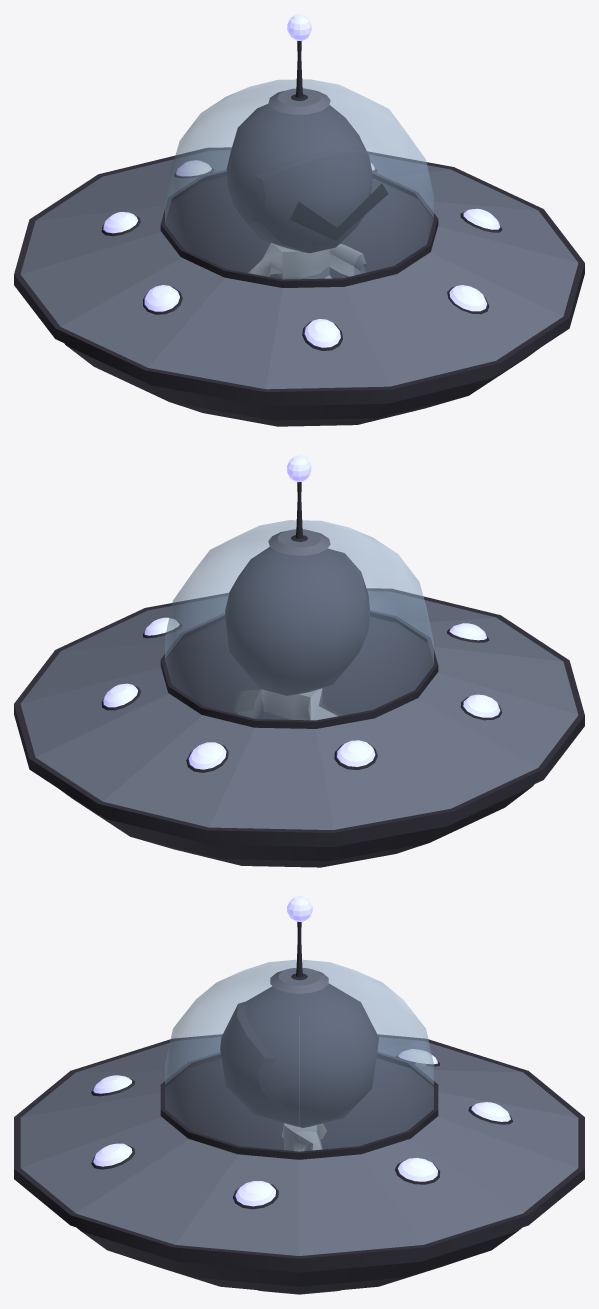
The model's file is EnemyTwo.fbx.
The picture shows the model from 3 angles, top to bottom: view 1: azimuth 30°, elevation 25°; view 2: azimuth 150°, elevation 25°; view 3: azimuth 270°, elevation 25°; orthographic projection. The views are drawn at different scales.
Visible parts, largest first — view 1: pSphere12, astro8; view 2: pSphere12, astro8; view 3: pSphere12, astro8.
Boxes of the visible parts, left/top/right/bottom form: pSphere12: left=14, top=14, right=584, bottom=426; astro8: left=226, top=104, right=388, bottom=279; pSphere12: left=14, top=455, right=584, bottom=867; astro8: left=225, top=547, right=369, bottom=720; pSphere12: left=14, top=896, right=584, bottom=1294; astro8: left=220, top=983, right=378, bottom=1151.
Size of the model in its own units: 15.92 by 11.82 by 16.59.
